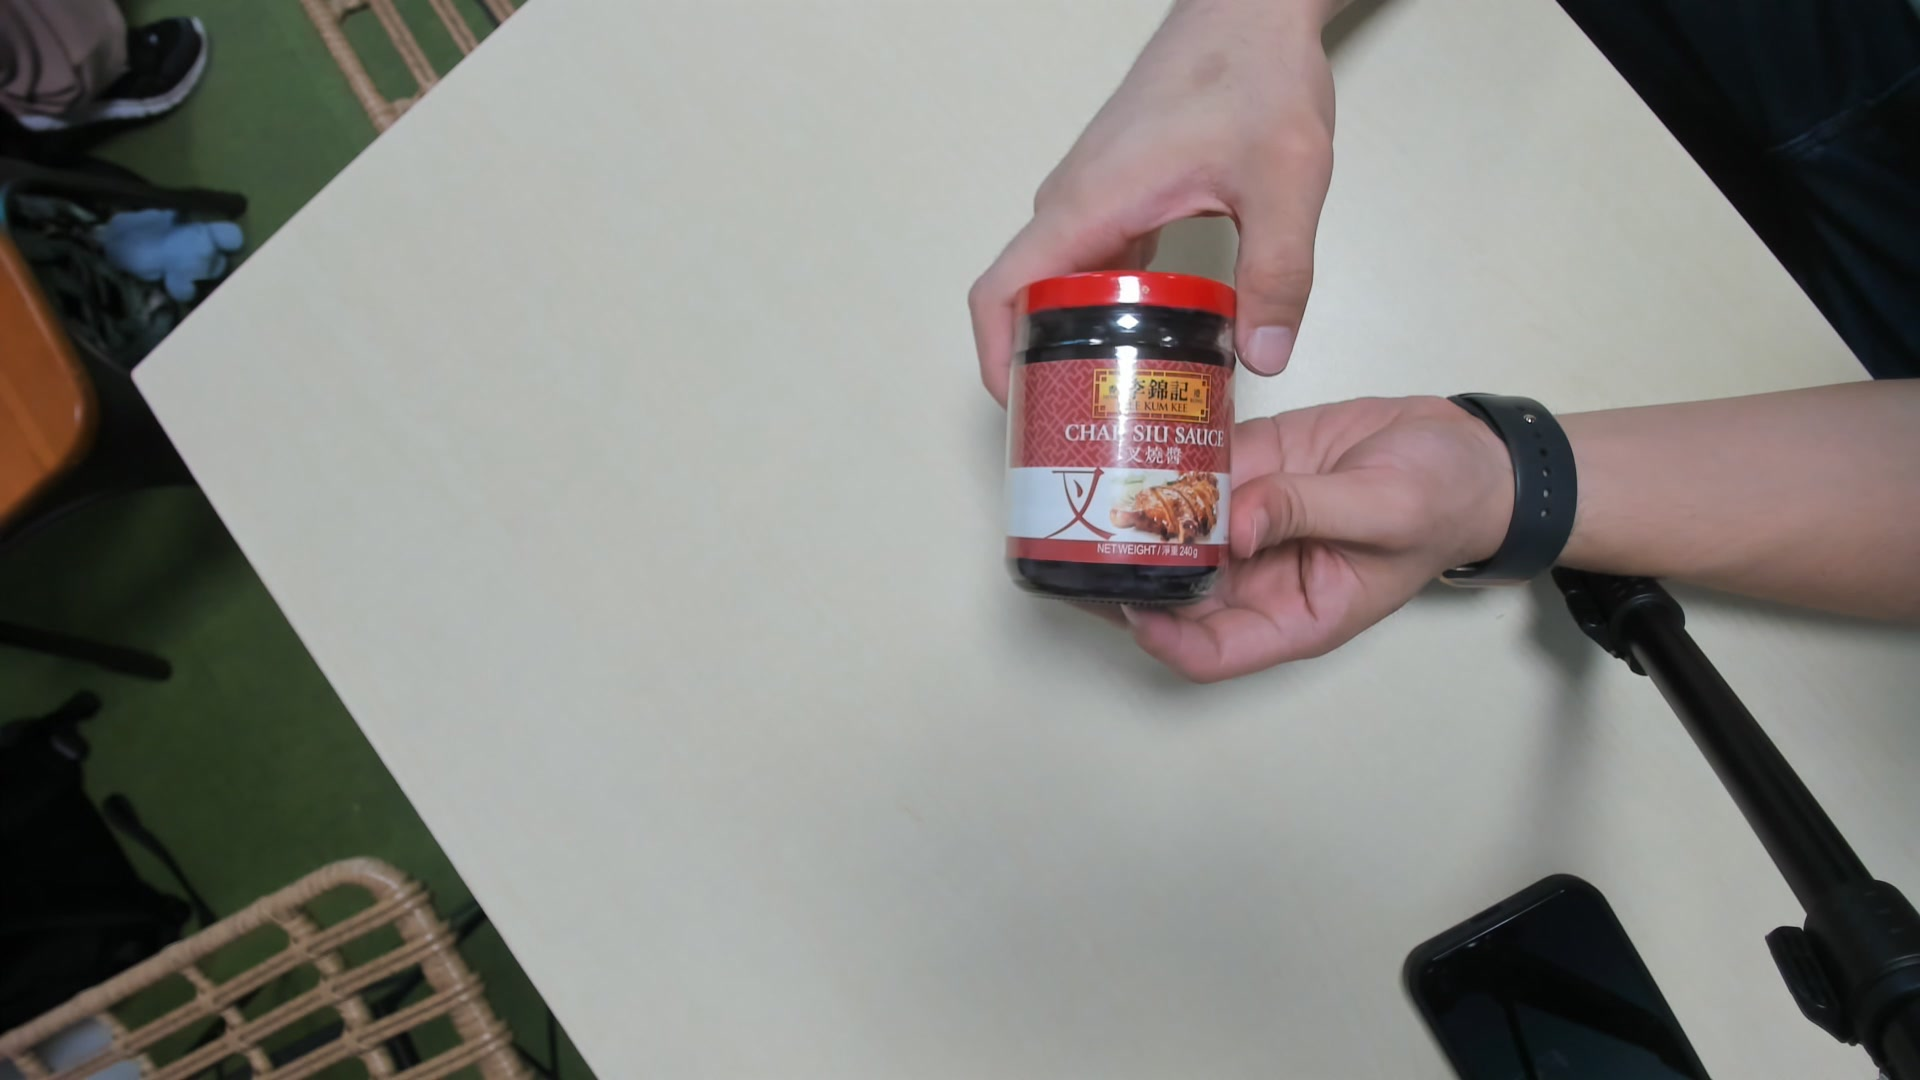OtherSauceDressing_200-299g_NonHalal_NonHealthy: (1000, 274, 1238, 611)
